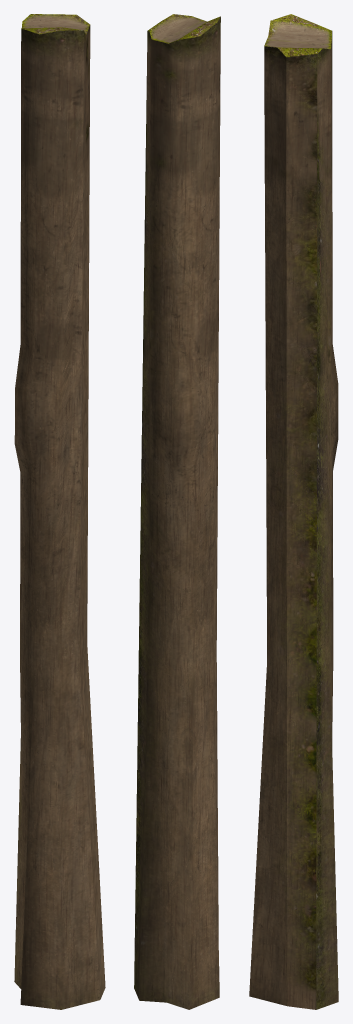
File: WoodStick.fbx
3 renders of one model, left to right at view 1: azimuth 90°, elevation 25°; view 2: azimuth 150°, elevation 25°; view 3: azimuth 270°, elevation 25°, orthographic.
Parts seen in each view (by area): view 1: wooden_dock_pole1; view 2: wooden_dock_pole1; view 3: wooden_dock_pole1.
Part boxes in pixels (x1=…): wooden_dock_pole1: x1=14, y1=14, x2=105, y2=1009; wooden_dock_pole1: x1=134, y1=14, x2=220, y2=1009; wooden_dock_pole1: x1=249, y1=14, x2=338, y2=1009.
Size of the model in its own units: 17.13 by 216 by 18.25.
